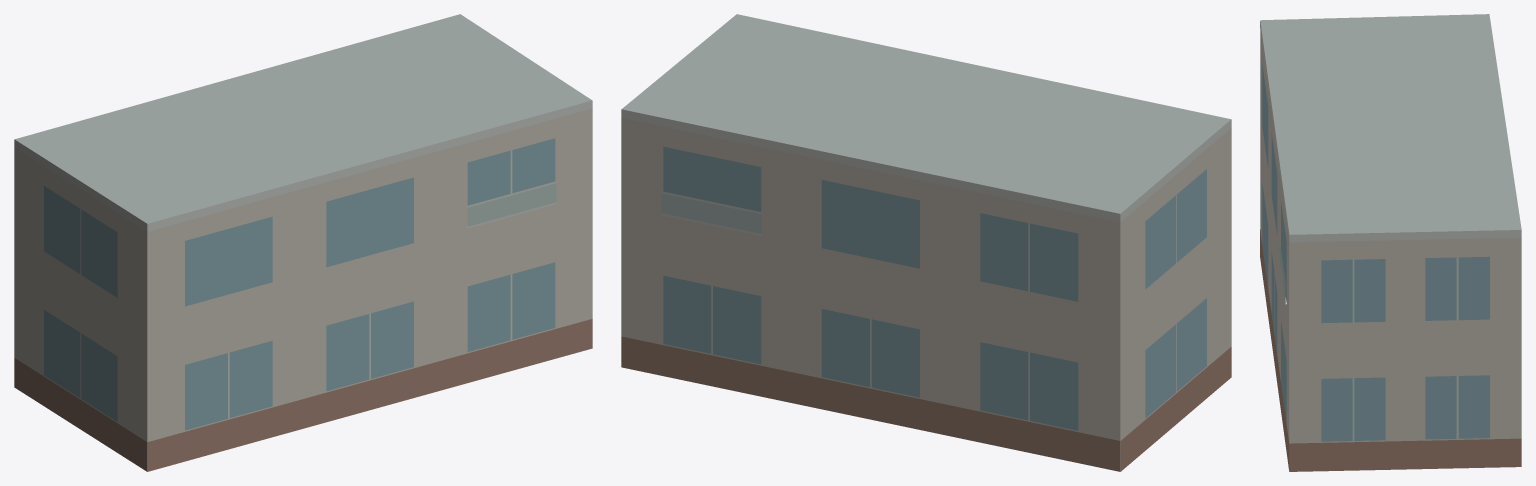
The model's file is survey-upis-32726696.glb.
3 views of the same model, side by side, from view 1: azimuth 30°, elevation 25°; view 2: azimuth 150°, elevation 25°; view 3: azimuth 270°, elevation 25° (orthographic). The views are drawn at different scales.
Visible parts, largest first — view 1: survey-upis-32726696.tmp; view 2: survey-upis-32726696.tmp; view 3: survey-upis-32726696.tmp.
Boxes of the visible parts, bbox=[...] form: survey-upis-32726696.tmp: bbox=[14, 14, 592, 471]; survey-upis-32726696.tmp: bbox=[621, 14, 1231, 471]; survey-upis-32726696.tmp: bbox=[1260, 14, 1521, 471].
Bounding box in the file's own units: 15.19 × 7.6 × 7.61.
